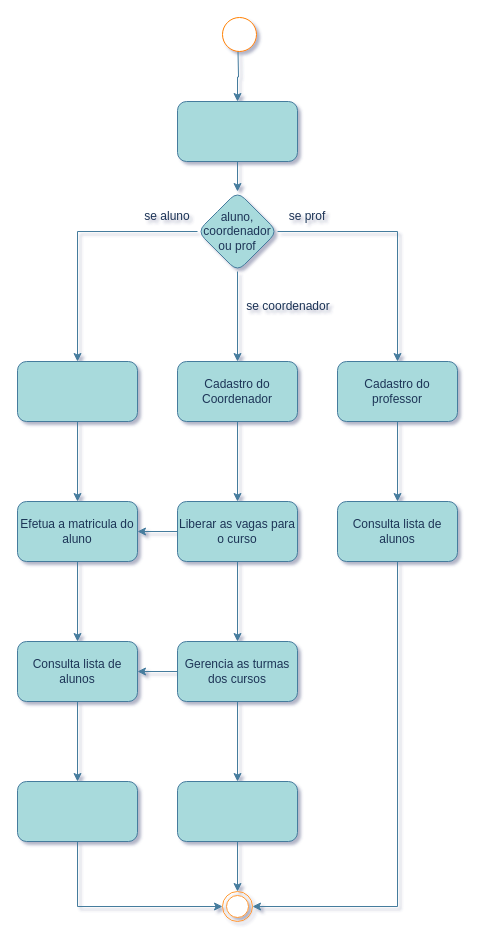
Some shapes in this 481 by 945 pixel diagram are drawn without their labels. The box of each missing label's shape, as (x1, y1, x2, y2) in pixels:
Cadastro de usuario: (176, 100, 298, 162)
Cadastro do aluno: (16, 360, 138, 422)
Consulta lista de professores: (16, 780, 138, 842)
Gerencia cursos: (176, 780, 298, 842)
